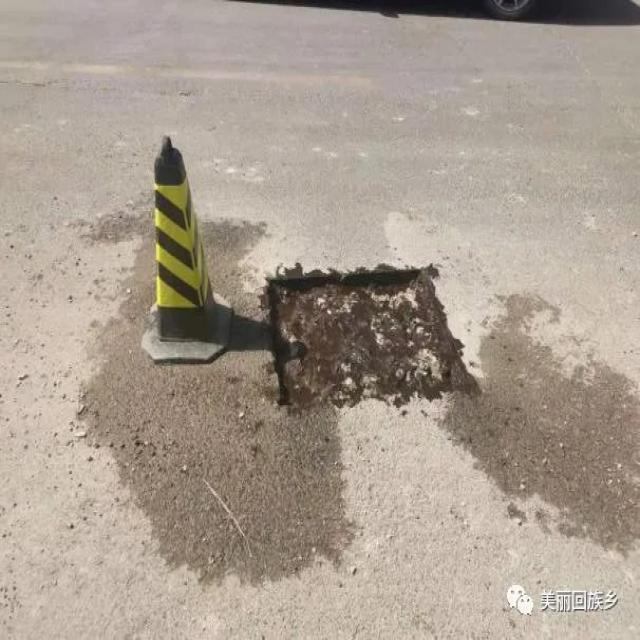pothole: (255, 262, 494, 410)
